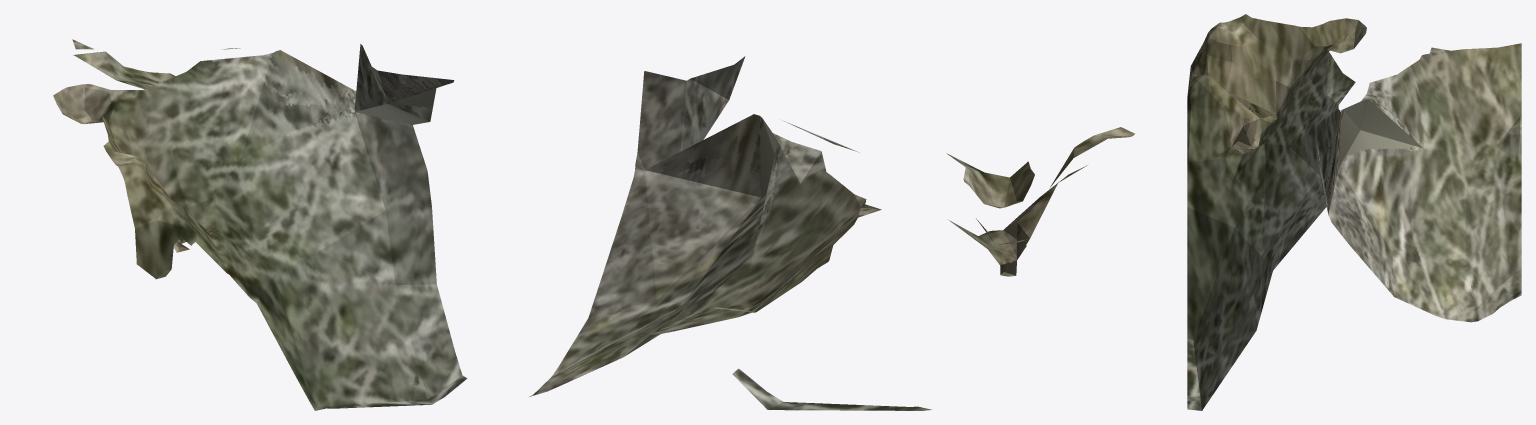
3 renders of one model, left to right at view 1: azimuth 30°, elevation 25°; view 2: azimuth 150°, elevation 25°; view 3: azimuth 270°, elevation 25°, orthographic. The views are drawn at different scales.
Bounding box in the file's own units: 2.95 × 2.62 × 2.95.
4 materials, 4 textured.
